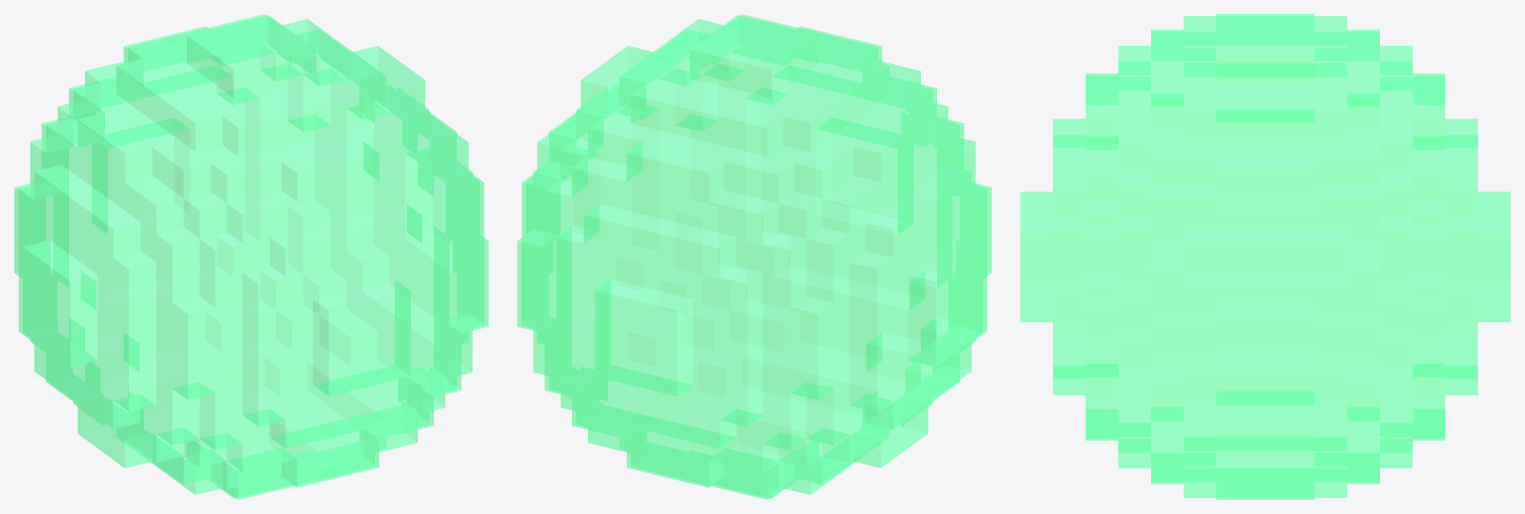
The model's file is crystal5.glb.
The picture shows the model from 3 angles, left to right: view 1: azimuth 30°, elevation 25°; view 2: azimuth 150°, elevation 25°; view 3: azimuth 270°, elevation 25°; orthographic projection. The views are drawn at different scales.
Parts seen in each view (by area): view 1: Sphere; view 2: Sphere; view 3: Sphere.
Part boxes in pixels (left/top/right/bottom): Sphere: left=14, top=14, right=488, bottom=499; Sphere: left=517, top=14, right=991, bottom=499; Sphere: left=1020, top=14, right=1510, bottom=499.
Bounding box in the file's own units: 2.08 × 2.08 × 2.08.
